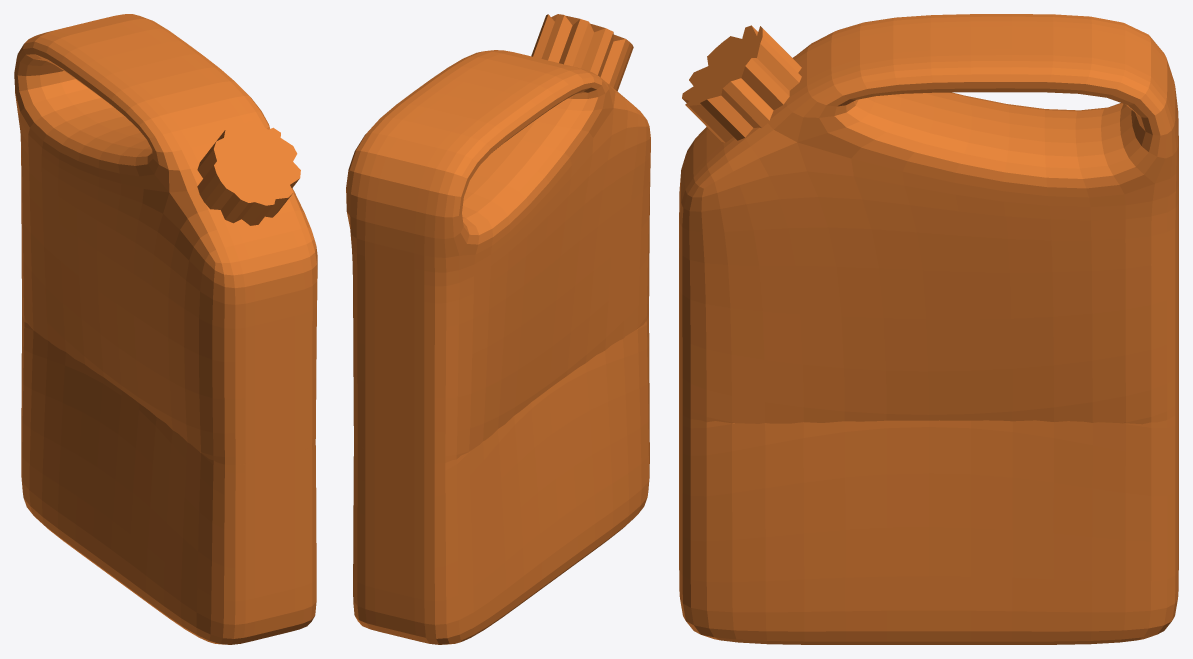
Rendered from OilBottle01.fbx.
3 views of the same model, side by side, from view 1: azimuth 30°, elevation 25°; view 2: azimuth 150°, elevation 25°; view 3: azimuth 270°, elevation 25° (orthographic). The views are drawn at different scales.
Visible parts, largest first — view 1: OilBottle01; view 2: OilBottle01; view 3: OilBottle01.
Boxes of the visible parts, <box> form: OilBottle01: <box>14,14,317,644</box>; OilBottle01: <box>346,14,650,644</box>; OilBottle01: <box>679,14,1178,644</box>.
Bounding box in the file's own units: 11.25 × 45.43 × 35.03.
